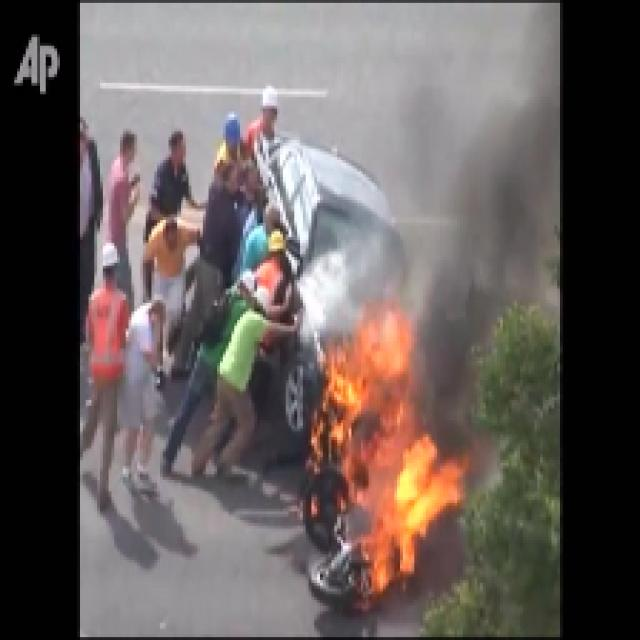fire: (305, 345, 442, 590)
smoke: (419, 42, 543, 330)
